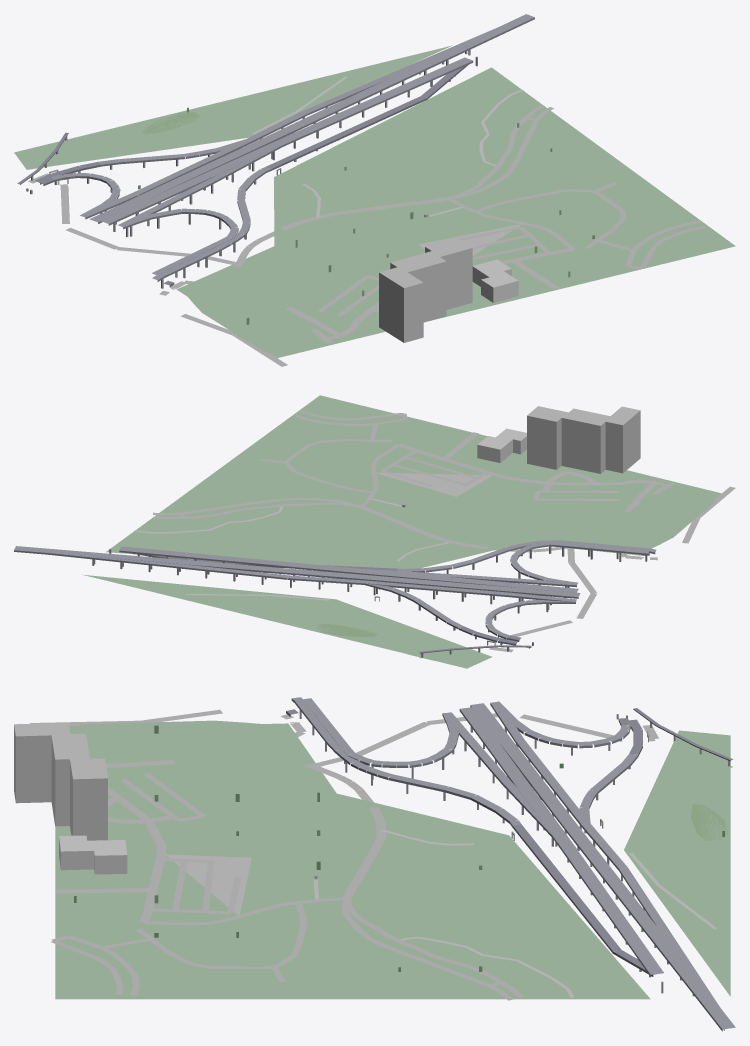
3 renders of one model, top to bottom at view 1: azimuth 30°, elevation 25°; view 2: azimuth 150°, elevation 25°; view 3: azimuth 270°, elevation 25°, orthographic. The views are drawn at different scales.
Bounding box in the file's own units: 584 × 56.93 × 535.
